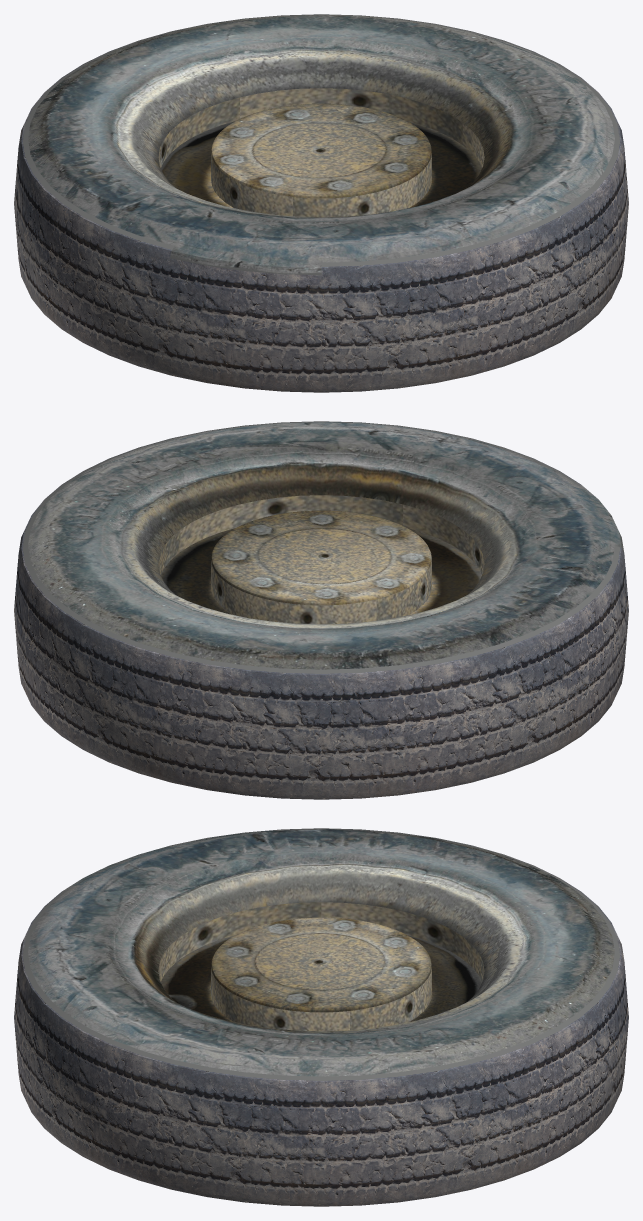
File: wheel01.fbx
3 views of the same model, one above another, from view 1: azimuth 30°, elevation 25°; view 2: azimuth 150°, elevation 25°; view 3: azimuth 270°, elevation 25° (orthographic).
Parts seen in each view (by area): view 1: Mesh; view 2: Mesh; view 3: Mesh.
Part boxes in pixels (<box>): Mesh: <box>14,14,628,392</box>; Mesh: <box>14,421,628,799</box>; Mesh: <box>14,828,628,1206</box>.
Bounding box in the file's own units: 132 × 34.28 × 132.
